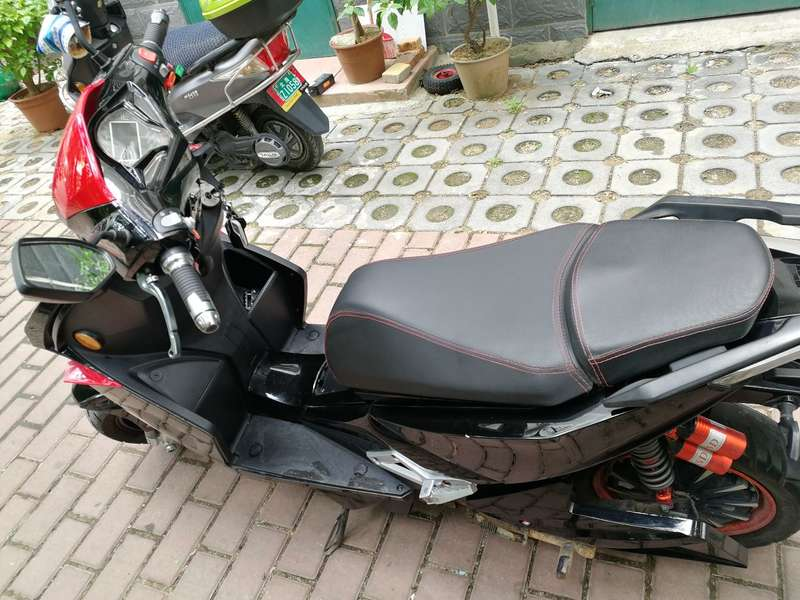电动车: (1, 8, 795, 570)
